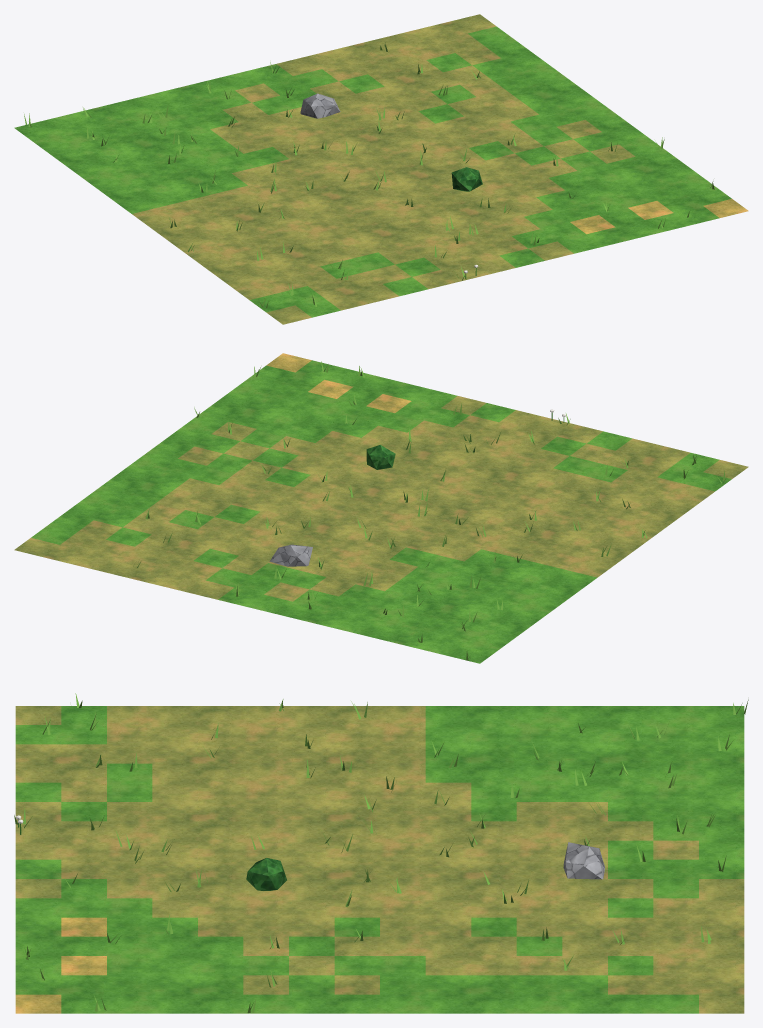
The model's file is chunk_8_6.glb.
The picture shows the model from 3 angles, top to bottom: view 1: azimuth 30°, elevation 25°; view 2: azimuth 150°, elevation 25°; view 3: azimuth 270°, elevation 25°; orthographic projection. The views are drawn at different scales.
Parts seen in each view (by area): view 1: chunk_8_6; view 2: chunk_8_6; view 3: chunk_8_6.
Part boxes in pixels (bbox=[...]): chunk_8_6: bbox=[14, 14, 748, 324]; chunk_8_6: bbox=[14, 353, 748, 663]; chunk_8_6: bbox=[14, 693, 748, 1013].
Size of the model in its own units: 16.17 by 1.12 by 16.14.
Materials: 8 (6 with a texture image).
